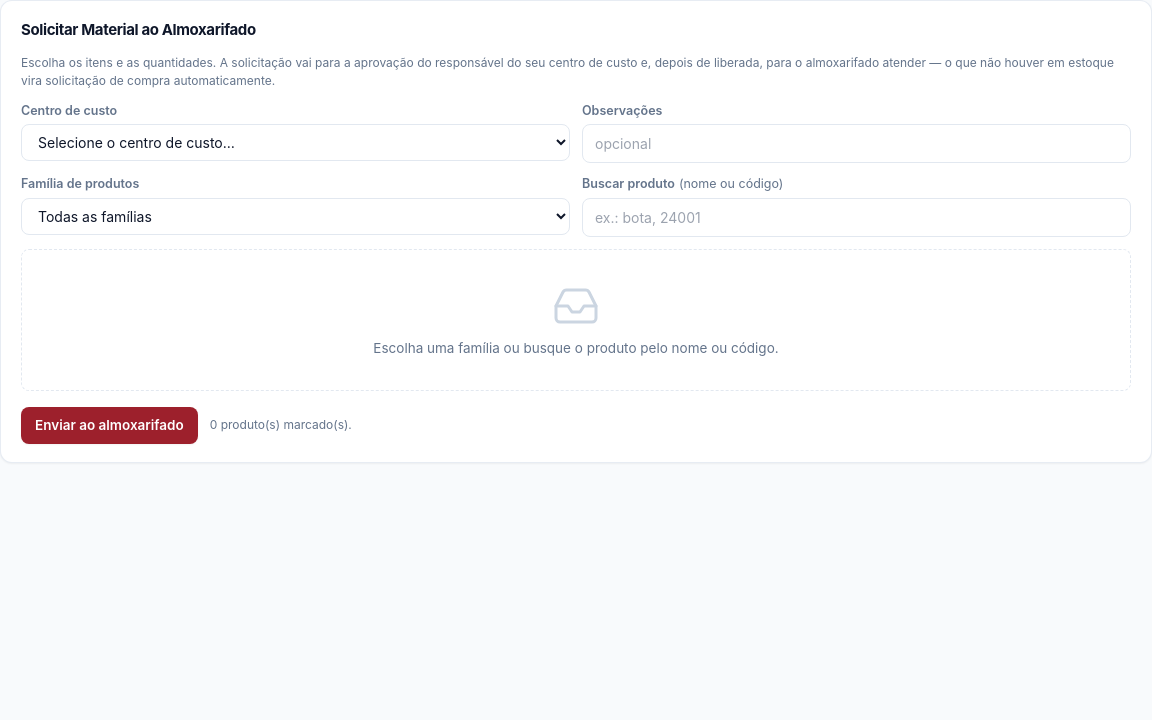
it: a ficha do produto na tela de material › "Voltar à lista" fecha a ficha sem marcar nada
This screenshot has width=1152, height=720.
Select "EPI" in the dropdown labelled "Família de produtos". click: coordinates (296, 216)
box: top-left (21, 198), bottom-right (570, 235)
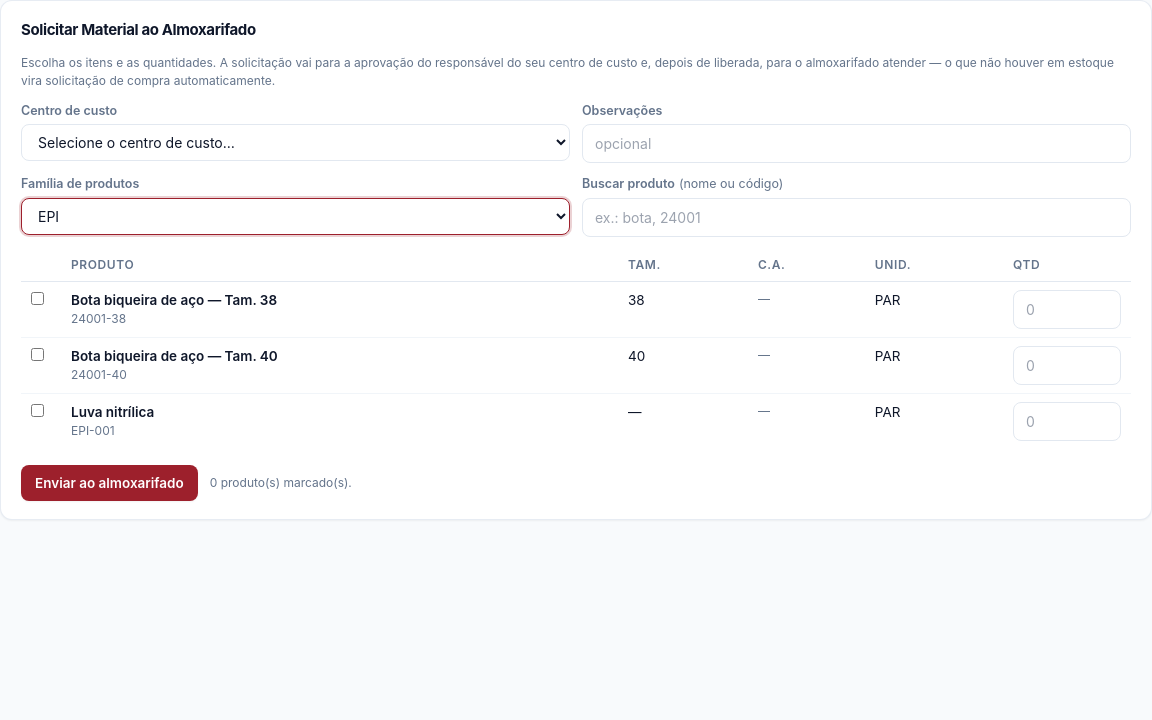
Click the button "Luva nitrílica". click: coordinates (113, 412)
box: top-left (71, 402), bottom-right (154, 422)
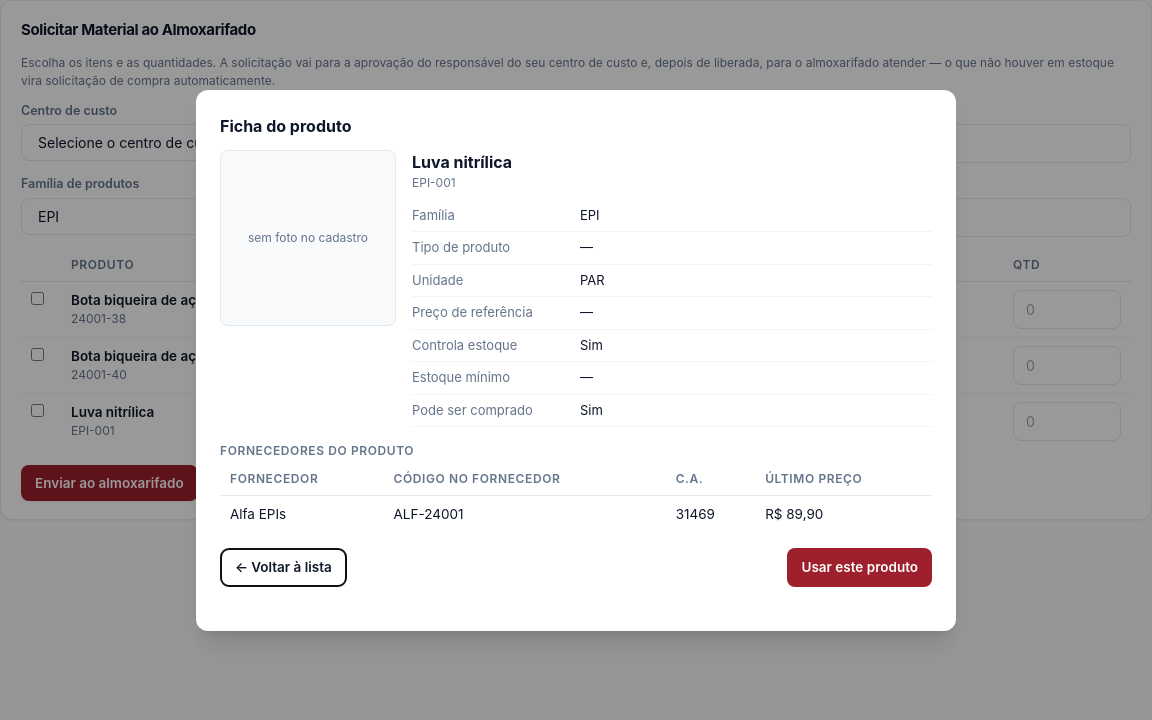
Expected: the element with test id "ficha-do-produto" is shown, top-left (220, 150), bottom-right (932, 586)
Click the button "← Voltar à lista". click: coordinates (283, 567)
box: top-left (220, 548), bottom-right (347, 587)
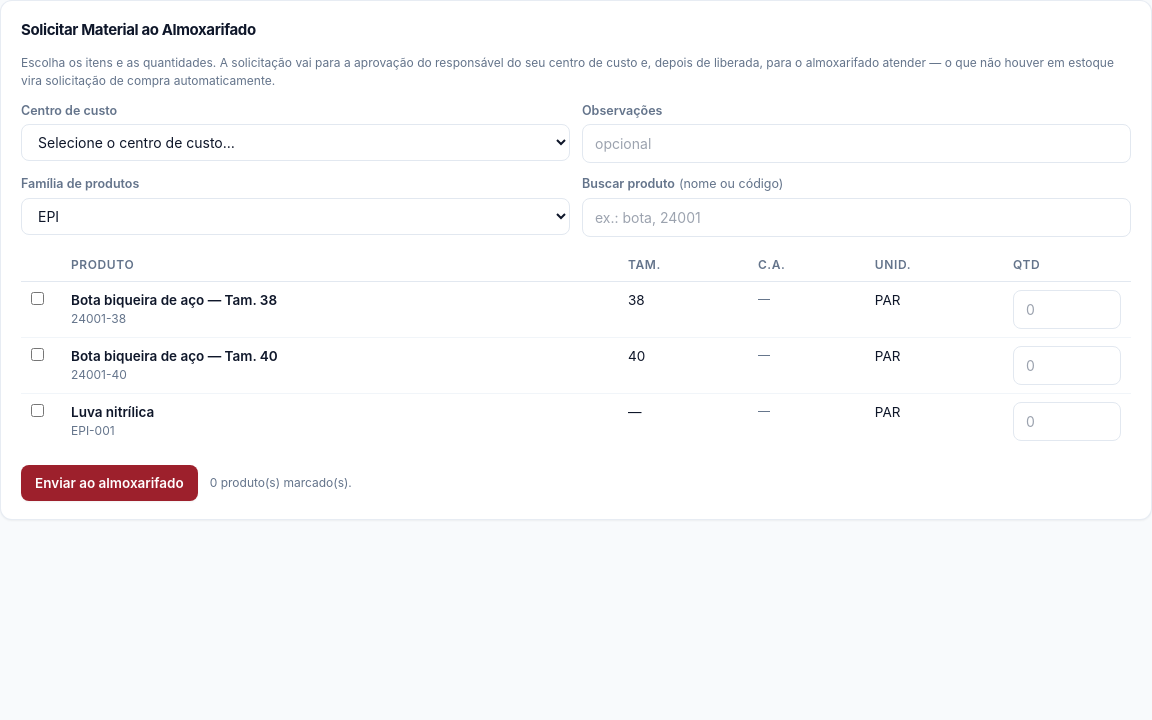
Expected: the checkbox named "Selecionar Luva nitrílica" is not checked, top-left (31, 404), bottom-right (44, 417)
Expected: the element with test id "ficha-do-produto" is gone
